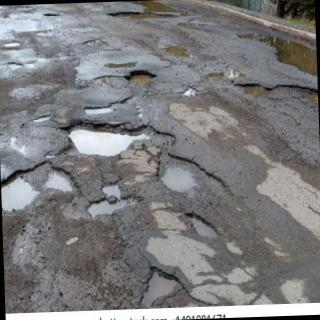pothole: (238, 32, 317, 81), (2, 162, 76, 211), (56, 120, 152, 156), (162, 154, 224, 192), (105, 0, 182, 26), (142, 270, 177, 308), (88, 184, 121, 217), (278, 80, 319, 105), (241, 84, 268, 96), (194, 217, 210, 236), (126, 70, 156, 79), (84, 106, 111, 116)
